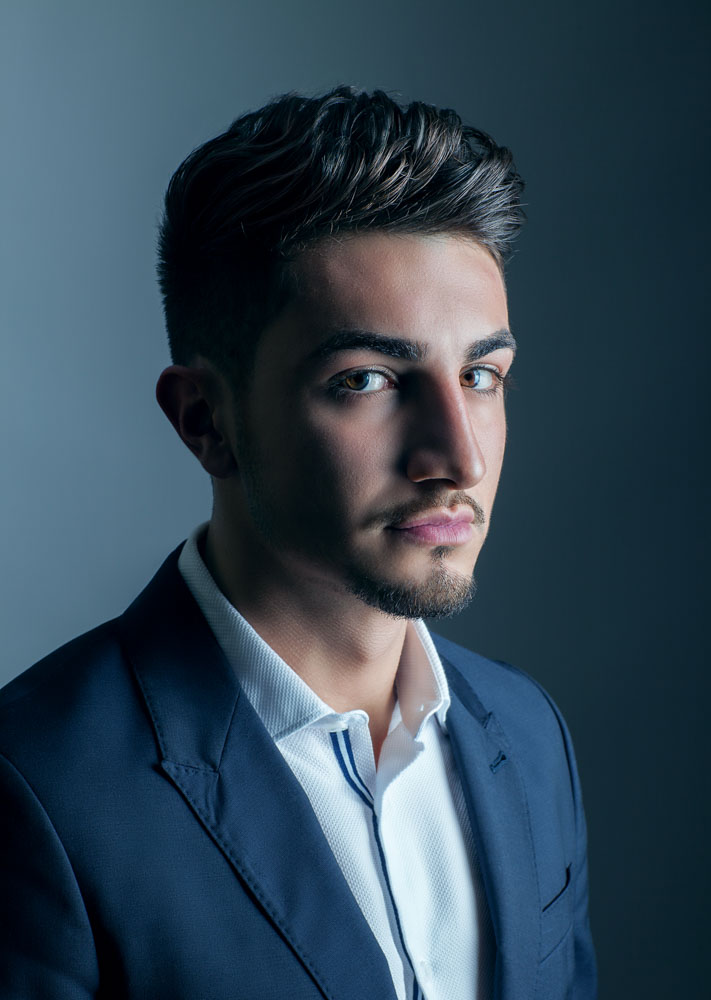bare: (255, 411, 519, 615)
